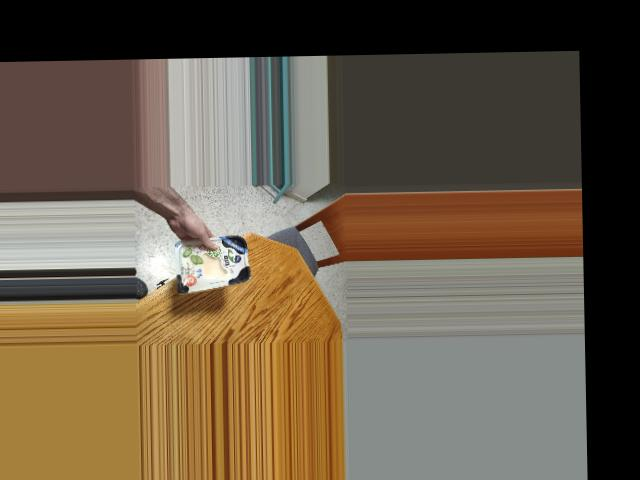cheese: (180, 235, 247, 289)
